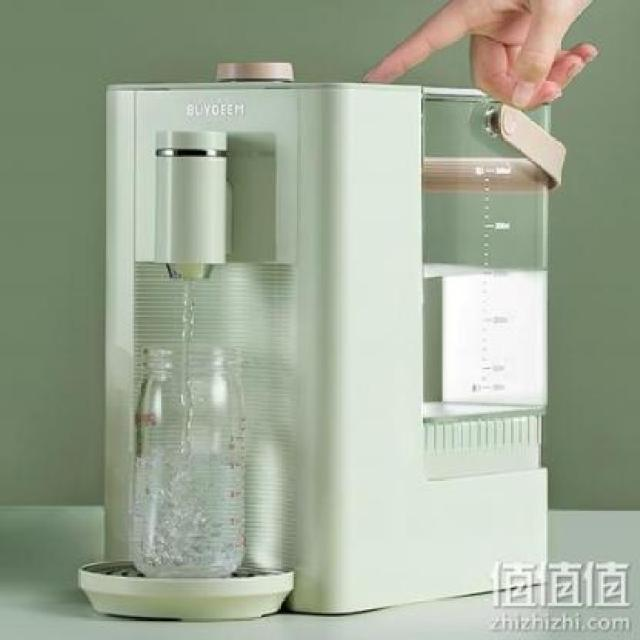cooler: (104, 62, 552, 619)
